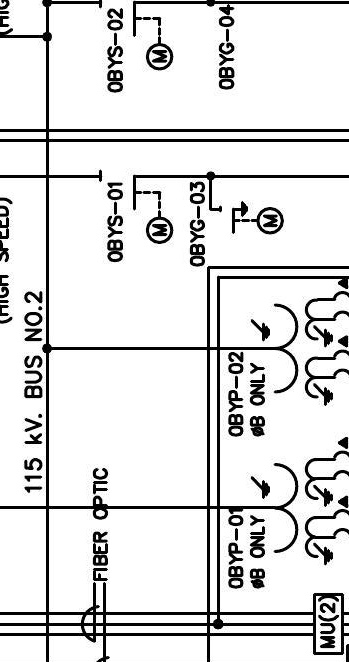115_1way_ds_w_motor: (99, 168, 175, 245)
115_gs_w_motor: (219, 201, 285, 236)
MU: (312, 592, 345, 656)
